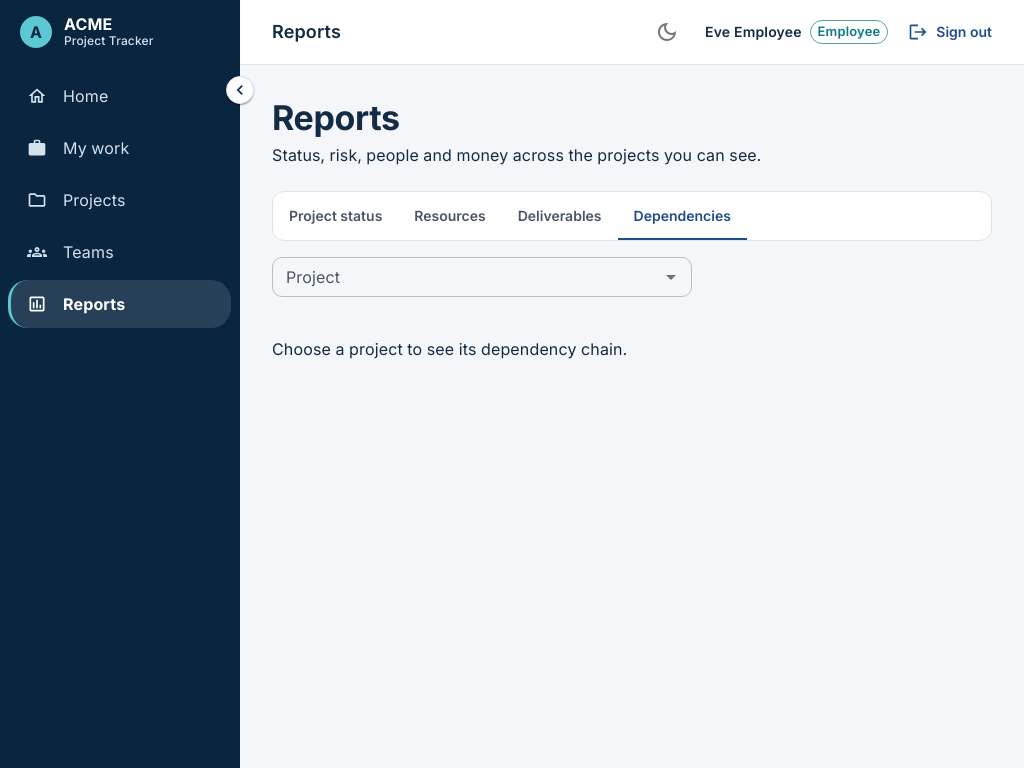
Scenario: Reports: content › dependencies shows the order to work in and the longest chain for a chosen project
expect the text "Choose a project to see its dependency chain." is shown: met, box [272,339,627,359]
Click the dropdown labelled "Project" at (466, 277), box [278,263,653,291]
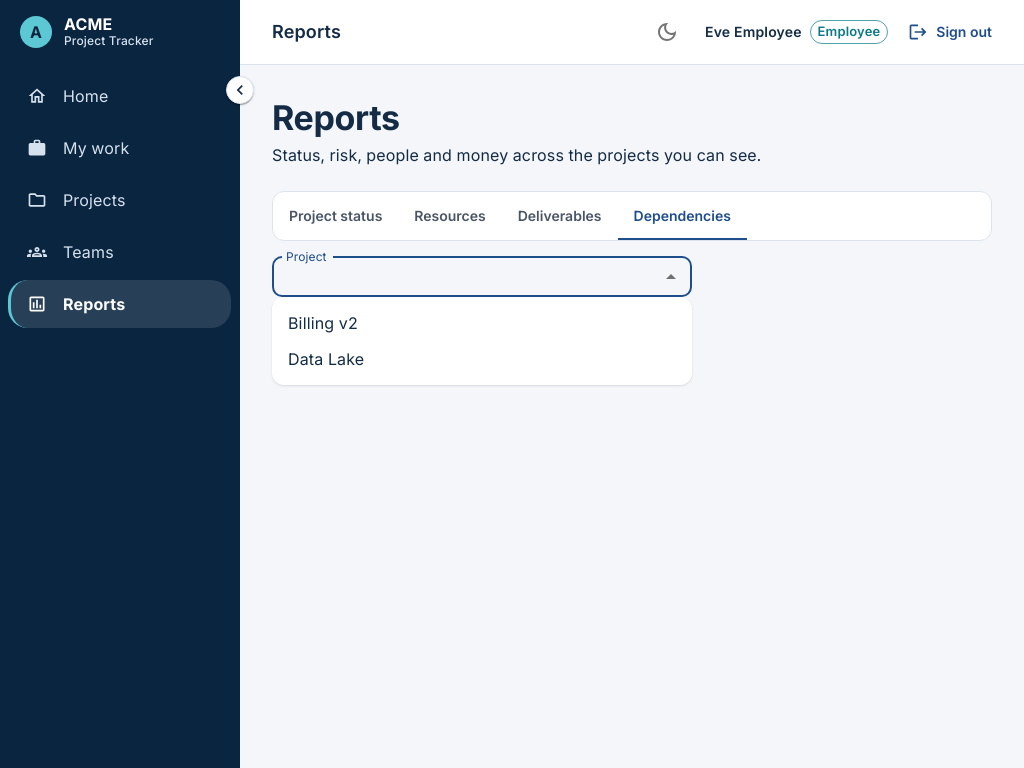
Click the option "Billing v2" at (323, 323), box [288,313,358,333]
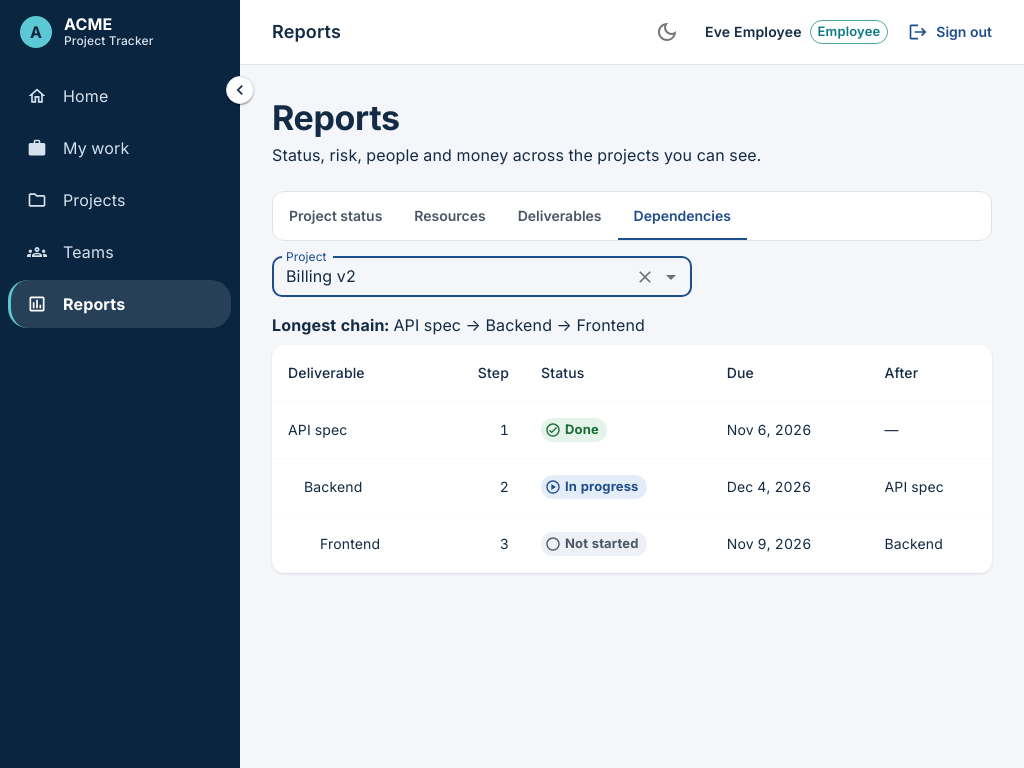
expect the text "API spec → Backend → Frontend" is shown: met, box [393,315,645,335]
expect the text "Backend" is shown: met, box [868,516,992,572]
expect the text "3" is shown: met, box [440,516,525,572]
